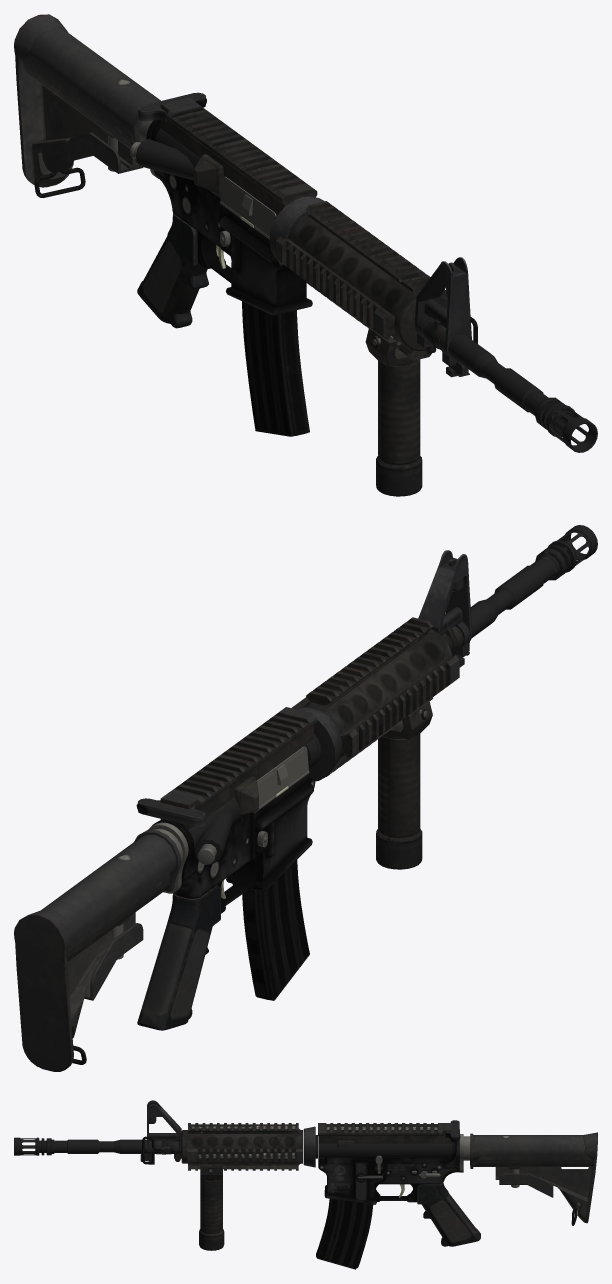
File: PBRTest.glb
3 renders of one model, top to bottom at view 1: azimuth 30°, elevation 25°; view 2: azimuth 150°, elevation 25°; view 3: azimuth 270°, elevation 25°, orthographic. The views are drawn at different scales.
Visible parts, largest first — view 1: Weapon_M4_Carbine (1), Weapon_M4_Carbine_Stock, Weapon_M4_Carbine_Handle, Weapon_M4_Carbine_SideFlap, Weapon_M4_Carbine_Reload; view 2: Weapon_M4_Carbine (1), Weapon_M4_Carbine_Handle, Weapon_M4_Carbine_Stock, Weapon_M4_Carbine_SideFlap, Weapon_M4_Carbine_Reload; view 3: Weapon_M4_Carbine (1), Weapon_M4_Carbine_Stock, Weapon_M4_Carbine_Handle.
Boxes of the visible parts, bbox=[...] form: Weapon_M4_Carbine (1): bbox=[14, 14, 597, 452]; Weapon_M4_Carbine_Stock: bbox=[242, 301, 309, 436]; Weapon_M4_Carbine_Handle: bbox=[365, 328, 428, 496]; Weapon_M4_Carbine_SideFlap: bbox=[220, 176, 276, 239]; Weapon_M4_Carbine_Reload: bbox=[138, 92, 206, 121]; Weapon_M4_Carbine (1): bbox=[14, 525, 597, 1071]; Weapon_M4_Carbine_Handle: bbox=[376, 700, 432, 869]; Weapon_M4_Carbine_Stock: bbox=[242, 860, 309, 1000]; Weapon_M4_Carbine_SideFlap: bbox=[253, 746, 309, 813]; Weapon_M4_Carbine_Reload: bbox=[136, 798, 205, 827]; Weapon_M4_Carbine (1): bbox=[14, 1100, 597, 1246]; Weapon_M4_Carbine_Stock: bbox=[316, 1198, 373, 1269]; Weapon_M4_Carbine_Handle: bbox=[199, 1165, 224, 1250].
Size of the model in its own units: 7.37 by 26.46 by 85.07.
1 material, 1 textured.
